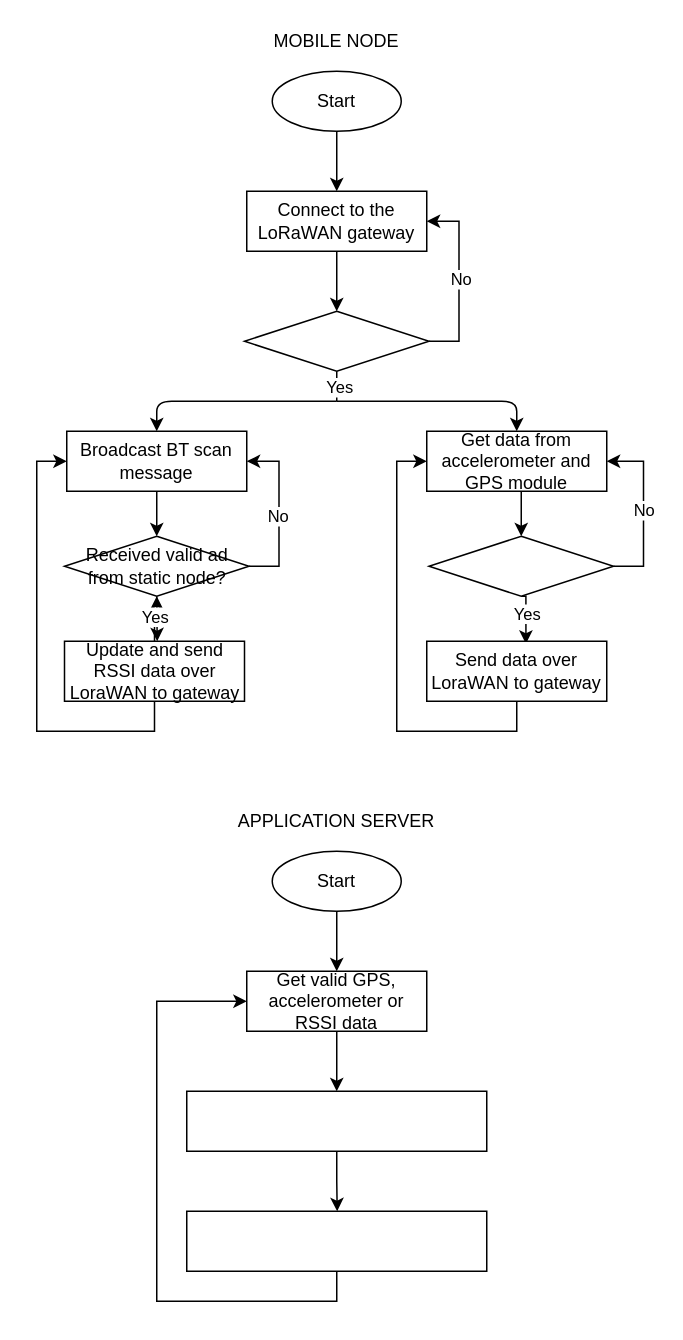
Image size: 683x1340. Some labels were removed from this diagram. Each missing label, with the box of its shape:
Connection successful?: (243, 310, 429, 371)
Perform dead reckoning with kalman filtering to determine mobile node location: (185, 1090, 487, 1151)
Send location to web dashboard for display: (185, 1210, 487, 1271)
Valid data?: (428, 535, 614, 596)
